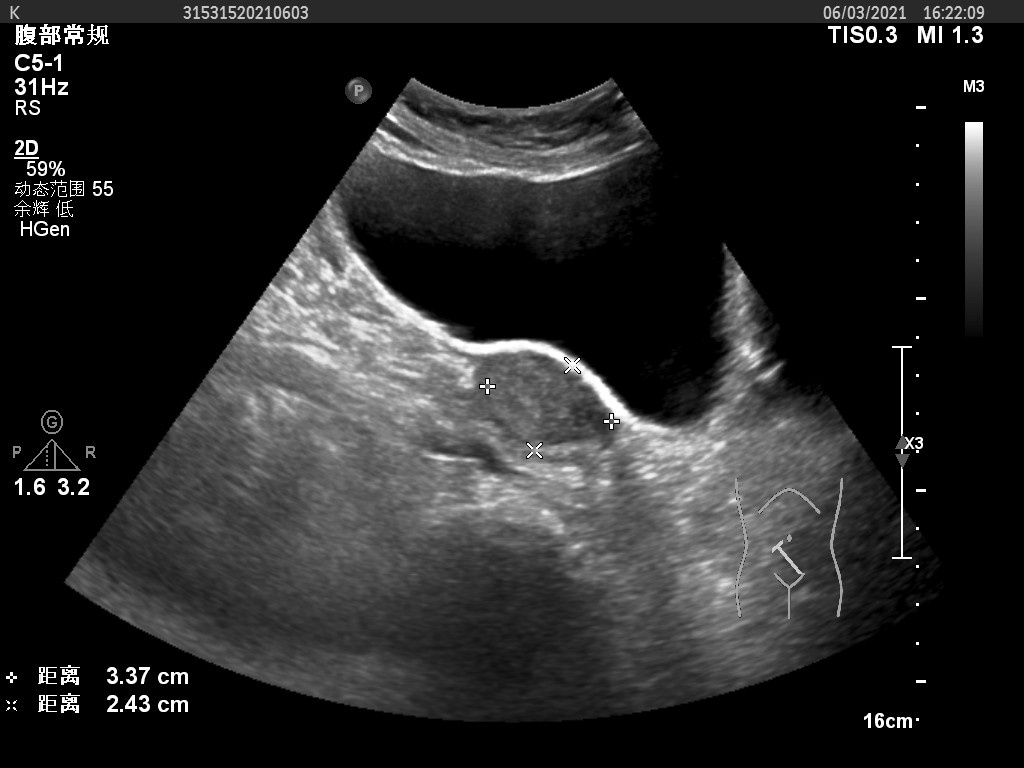肌瘤: (486, 364, 598, 446)
